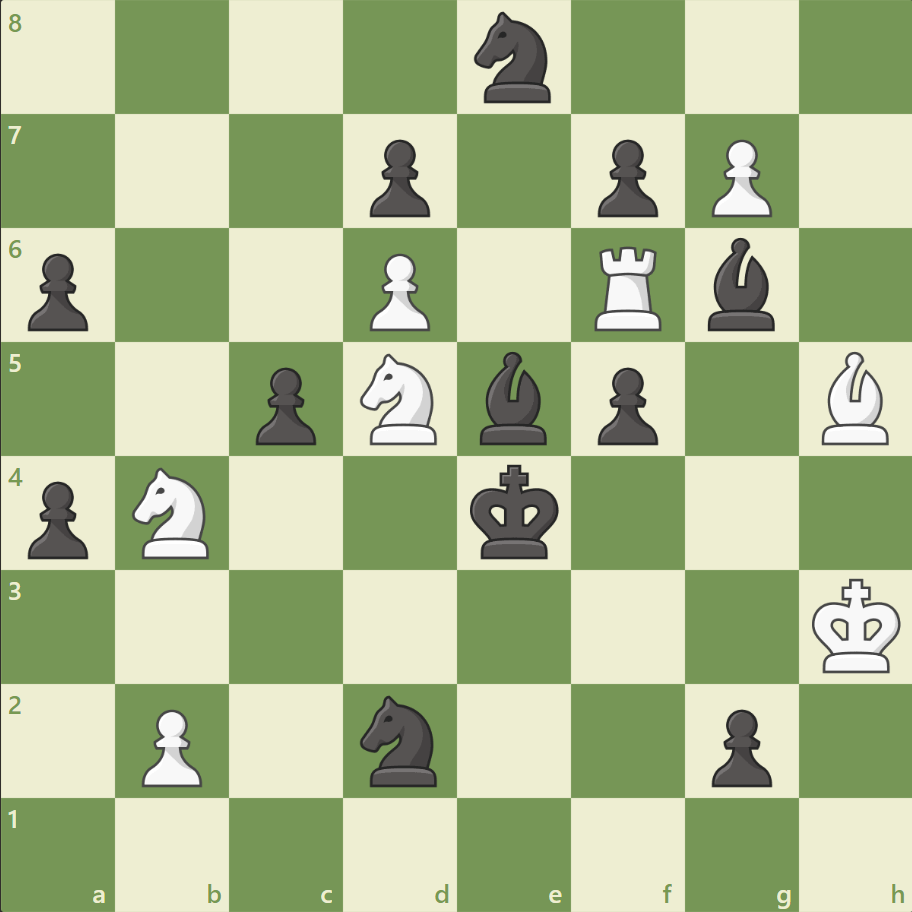B: (812, 347, 896, 449)
K: (806, 571, 906, 679)
N: (124, 461, 222, 564), (351, 348, 449, 450)
P: (701, 132, 776, 223), (133, 700, 208, 791), (361, 246, 435, 337)
R: (587, 239, 670, 336)
b: (698, 233, 782, 336), (471, 347, 555, 449)
k: (465, 458, 565, 566)
n: (351, 688, 449, 791), (465, 7, 562, 110)
p: (20, 246, 95, 337), (247, 359, 322, 450), (20, 473, 95, 564), (701, 700, 776, 791), (361, 132, 435, 223), (588, 132, 662, 223), (588, 359, 662, 450)
